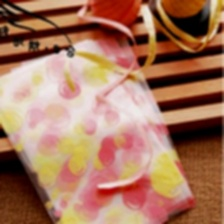snack: (0, 24, 203, 224)
